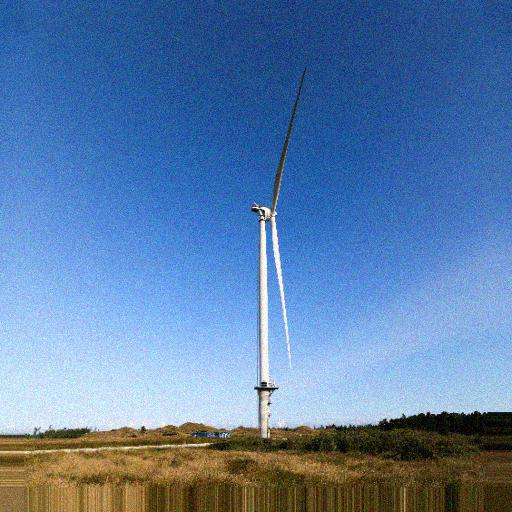wind turbine: (248, 67, 307, 431)
